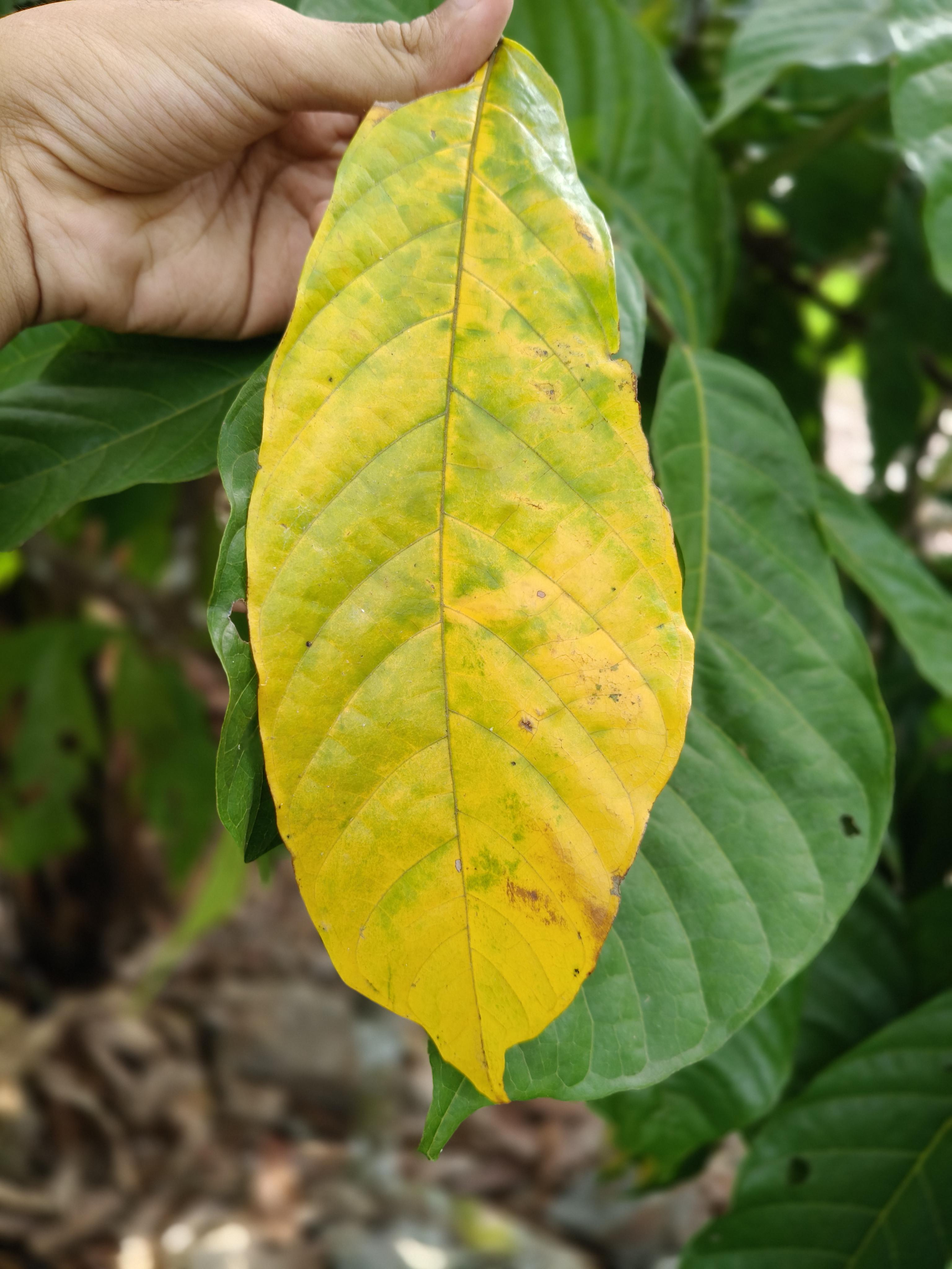deficiencia_potasio: (250, 33, 690, 1116)
